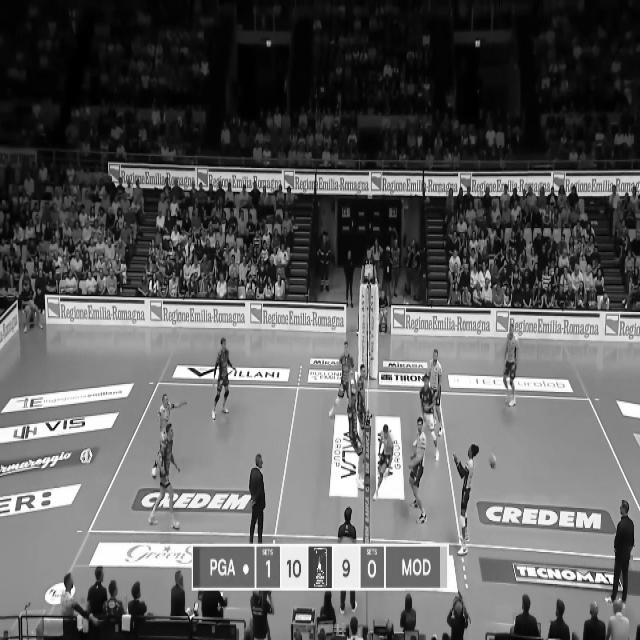volleyball court: (88, 380, 639, 555)
